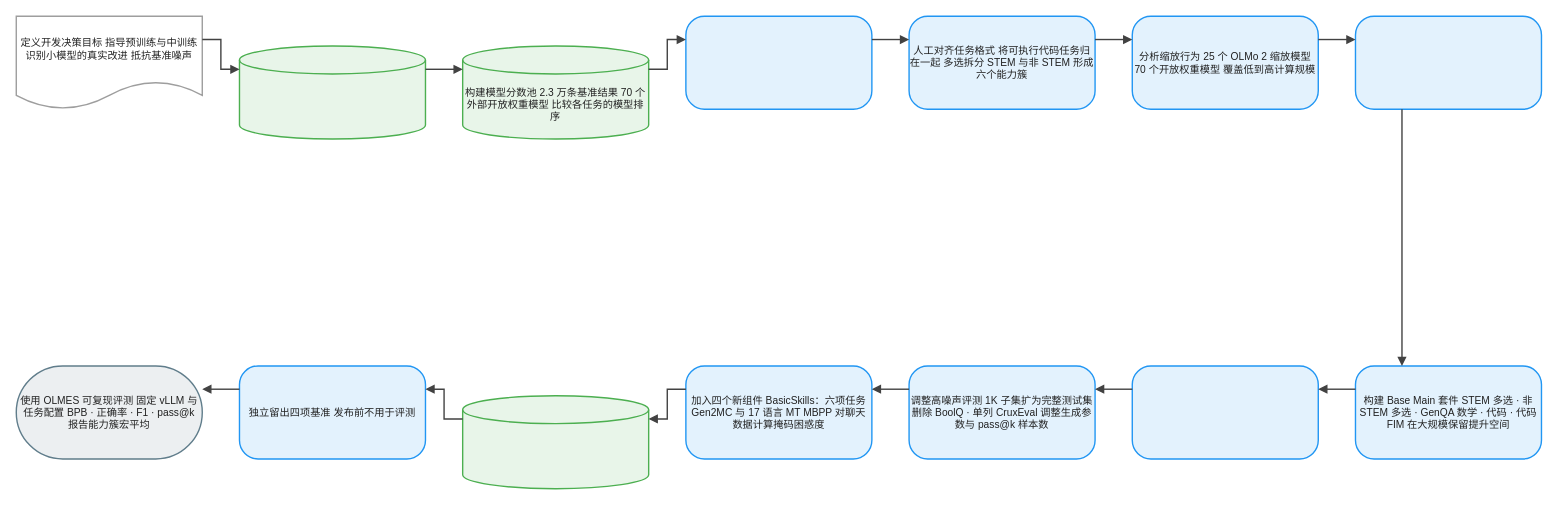
The diagram is 1559 pixels wide and 506 high, and some of its shapes have lost their labels. Each missing label, with the centre of its shape:
"构建 Base Easy 代理 面向小于 10 亿参数模型 用 BPB 评分标准续写 要求与 Main 排序一致" goes at (1448,62).
"测量信噪比 OLMo 2 最后 50 个检查点 10 个同计算规模外部模型 五次中训练预备运行" goes at (1225,412).
"组装 OlmoBaseEval 共 43 项任务 Base Easy 与 Base Main 服务预训练与中训练决策" goes at (555,442).
"聚类相似评测 Ward 方差最小化 合并模型排序相近的任务 人工选择聚类粒度阈值" goes at (778,62).
"选择宽覆盖候选任务 科学与通用知识 医学与实验室知识 数学与代码能力" goes at (332,92).
